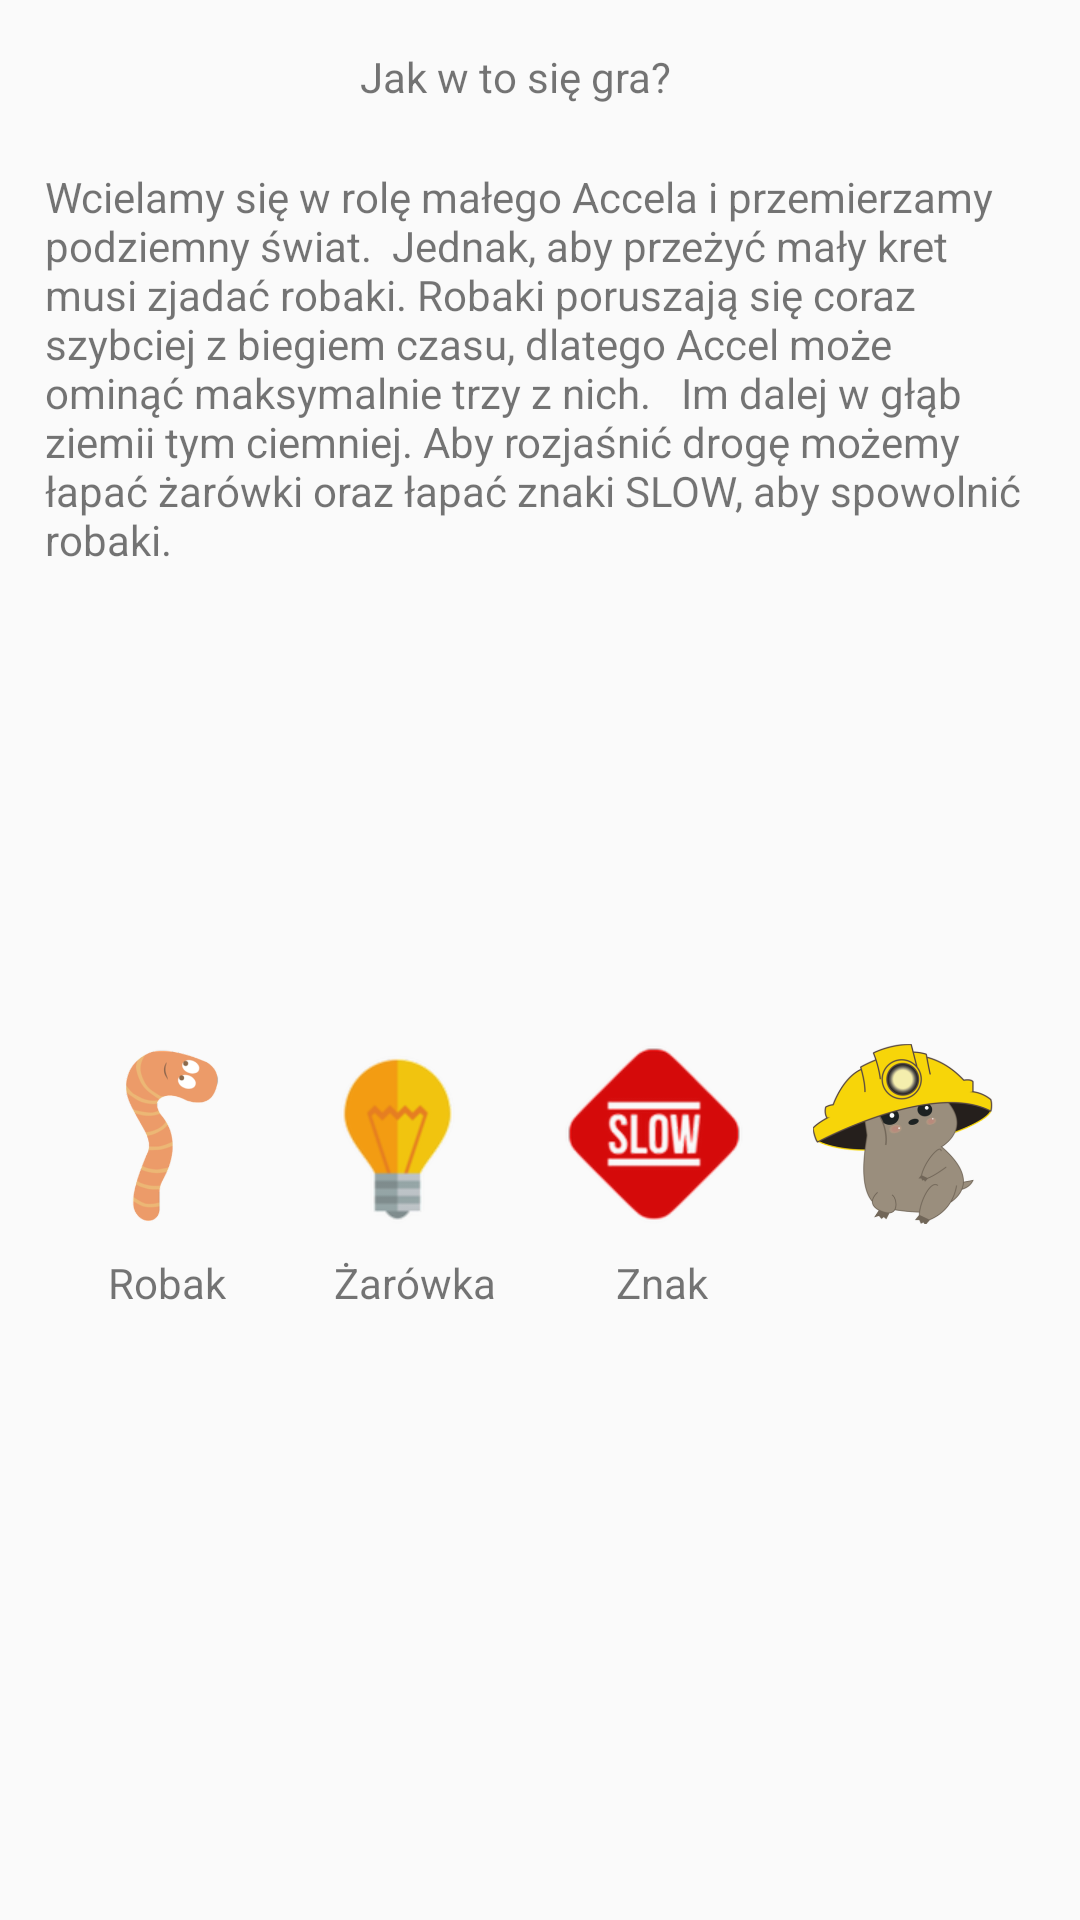

Locate icon controls on the screen. Image size 1080 × 1920, boxes as box=[x1, y1, x2, y2].
mole: box=[813, 1044, 993, 1224]
